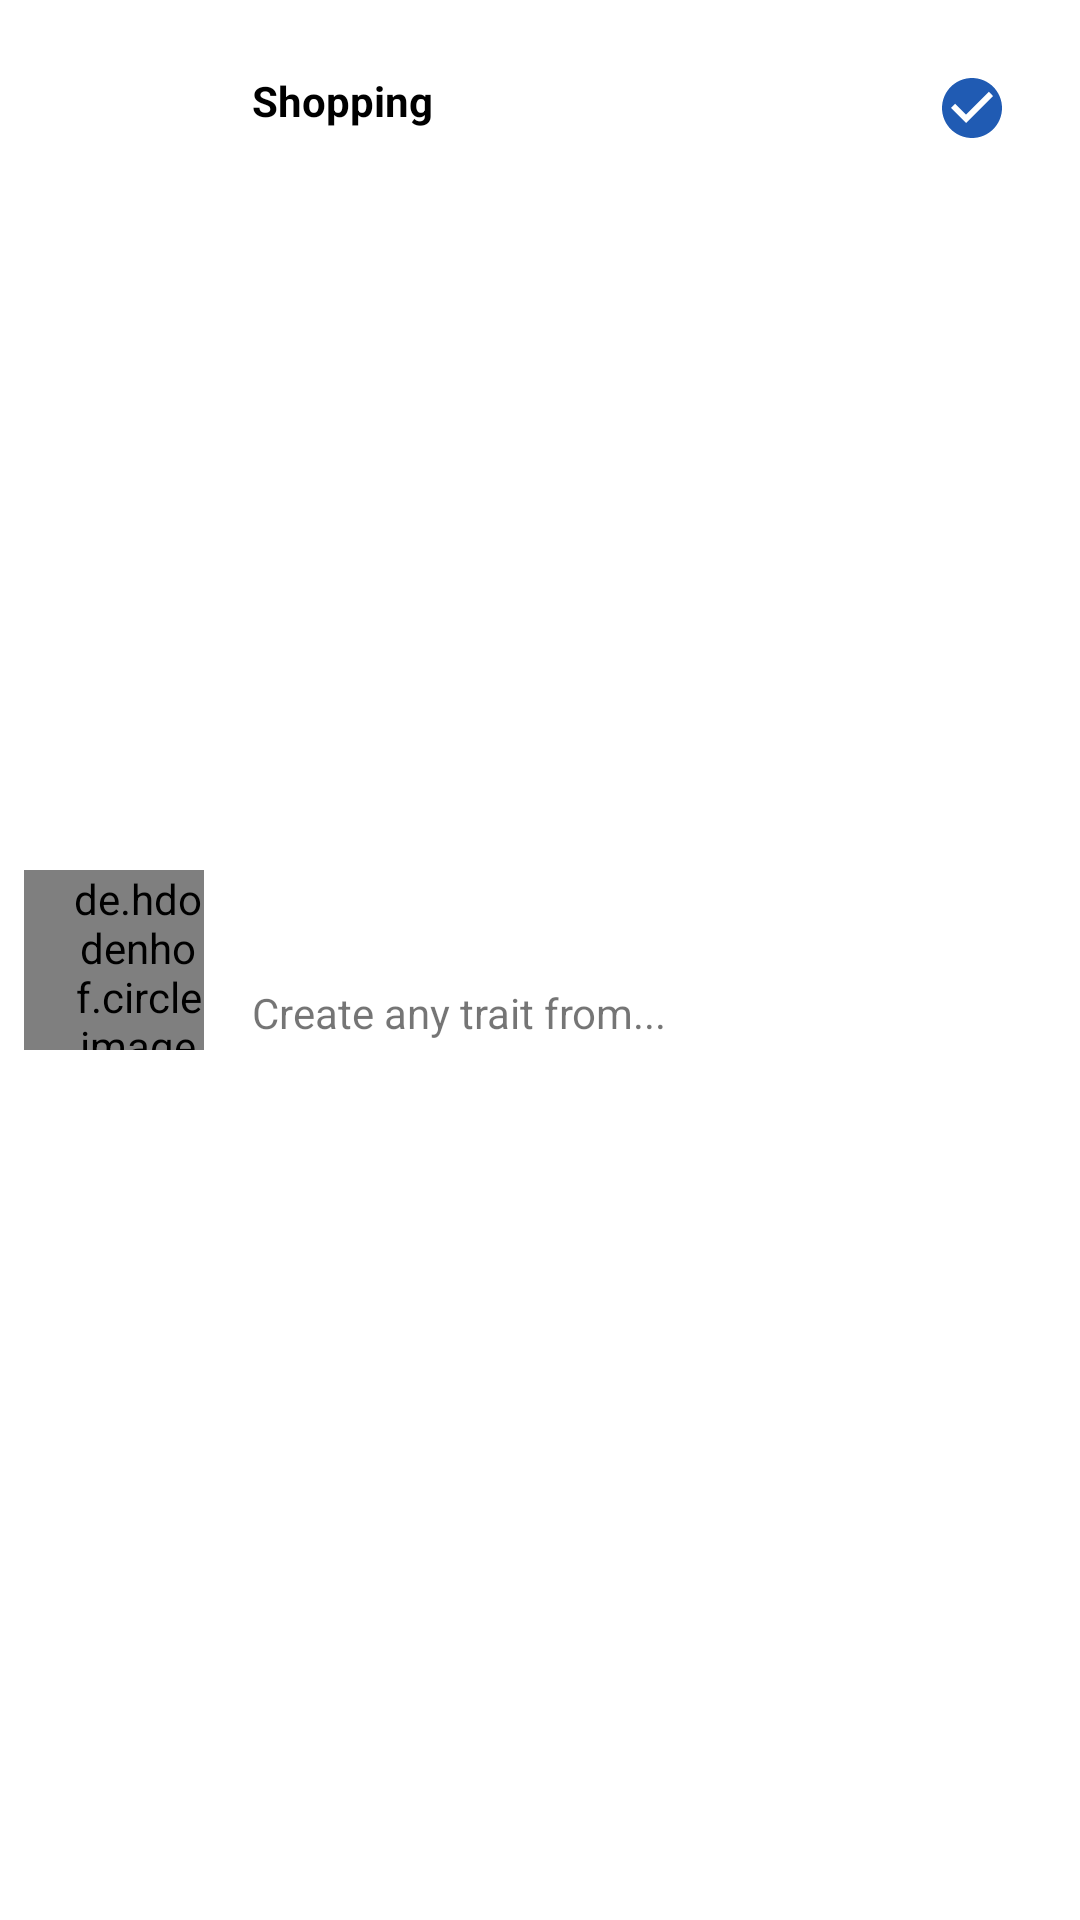

Locate icon controls on the screen. Image size 1080×1920, boxes as {"left": x1, "top": y1, "right": x2, "bottom": y2}.
checked: {"left": 942, "top": 78, "right": 1002, "bottom": 138}
